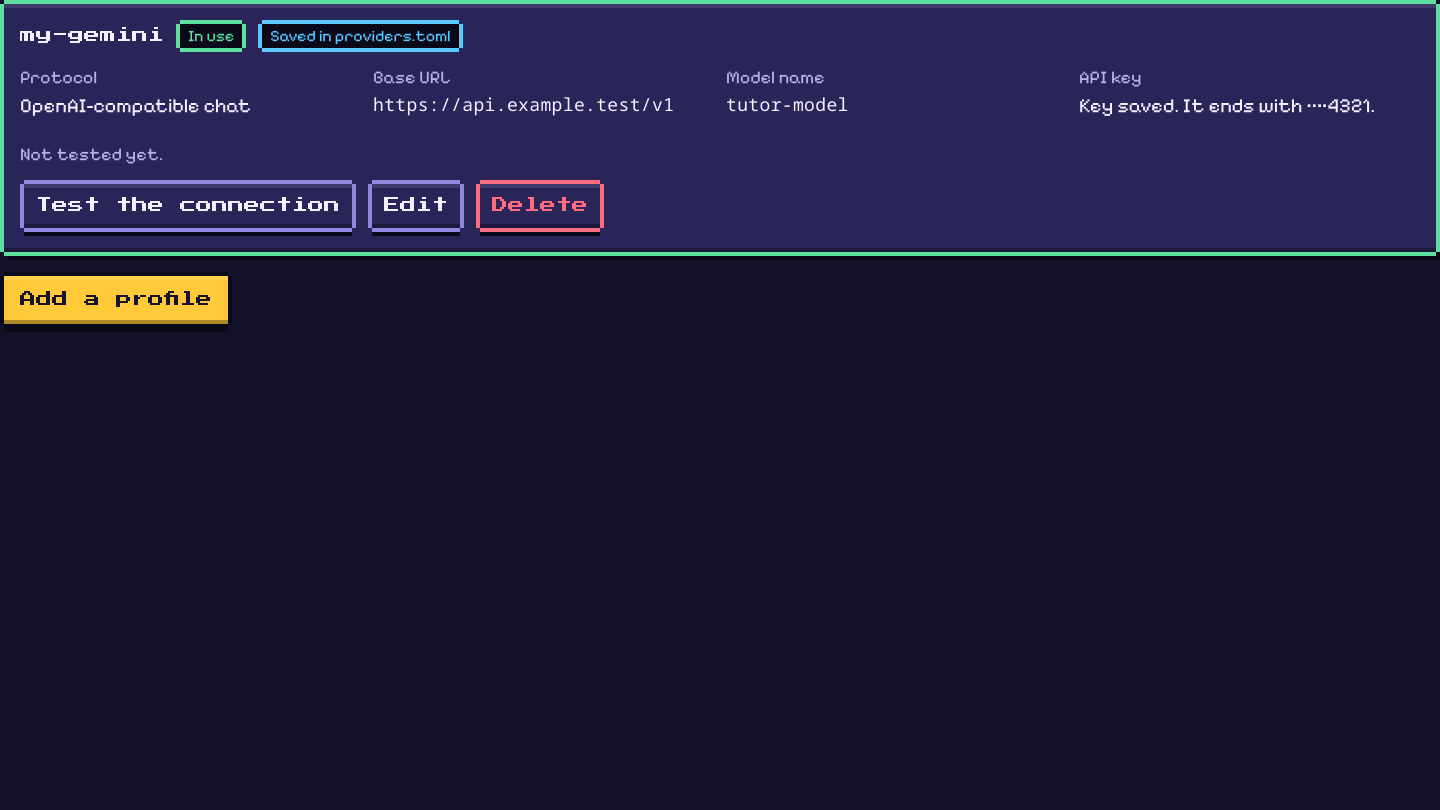
Test case: ProviderManager › explains a refused delete with the program's sentence
Click the button "Delete" at (540, 206), box left=480, top=184, right=600, bottom=228
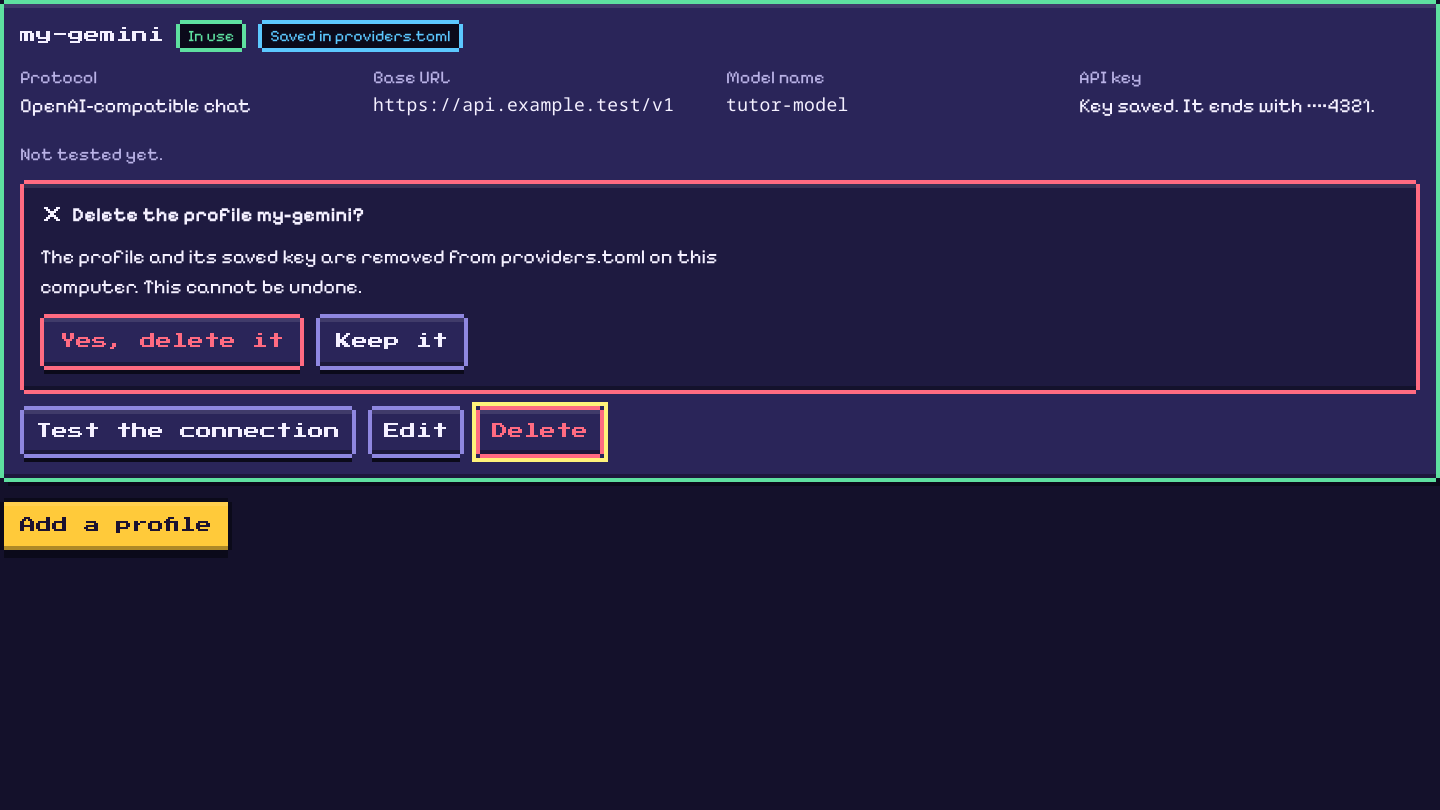
Click the button "Yes, delete it" at (172, 342), box left=44, top=318, right=300, bottom=366
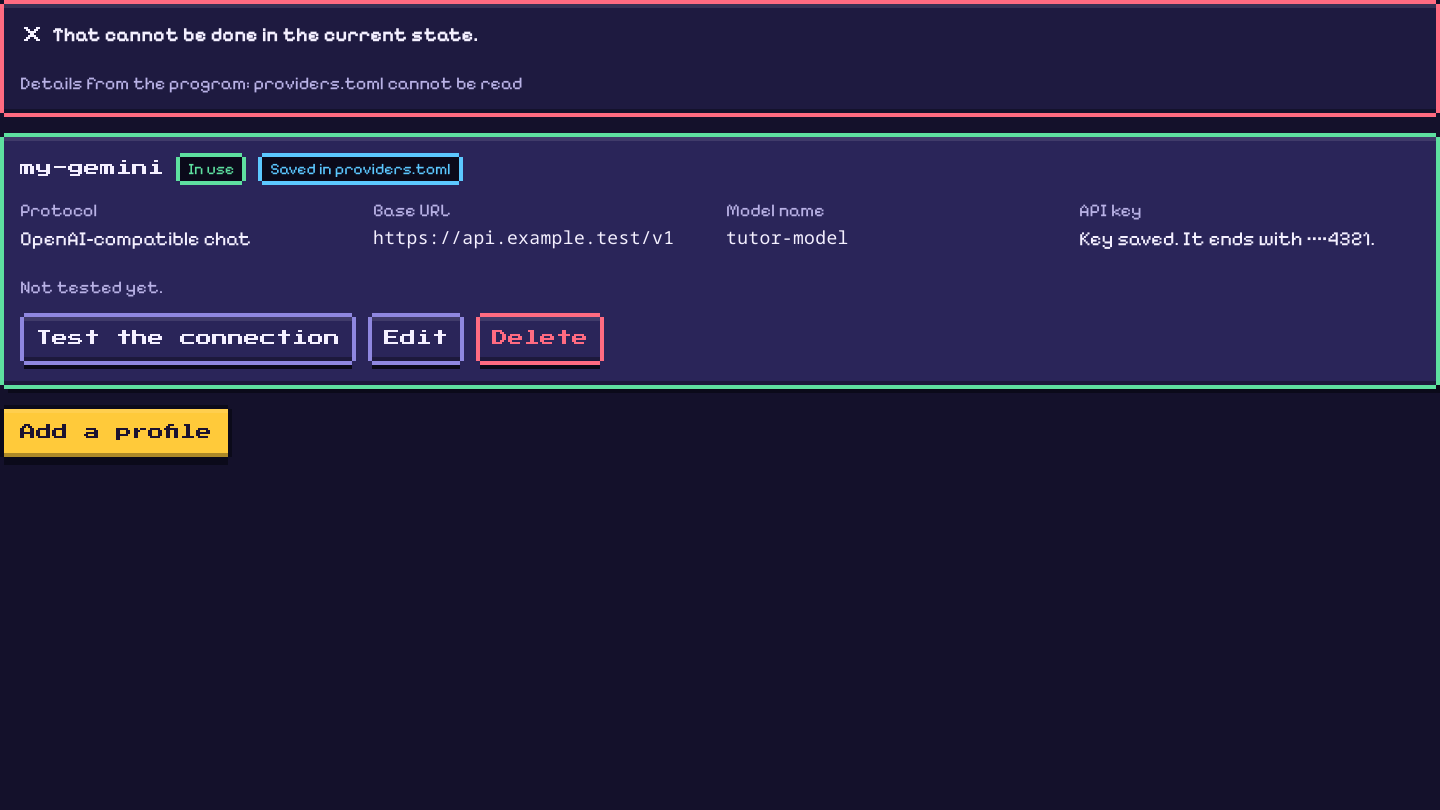
Expected: the element "my-gemini" is shown, left=4, top=137, right=1436, bottom=385
Expected: the text "Details from the program: providers.toml cannot be read" is shown, left=20, top=72, right=523, bottom=94
